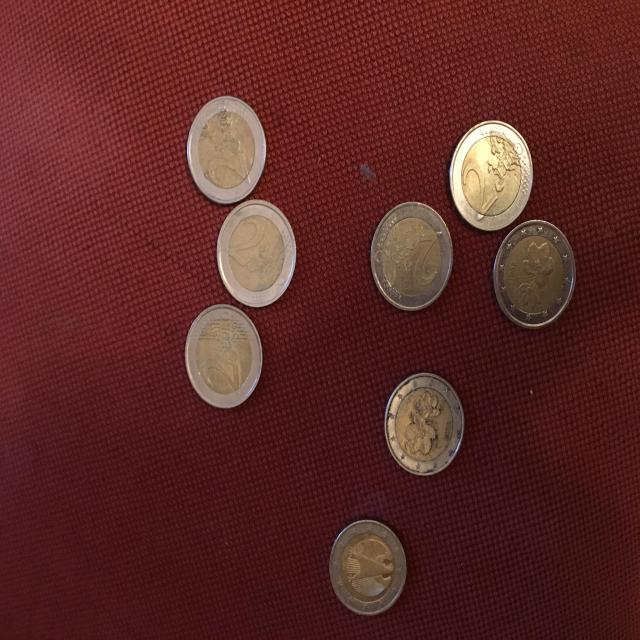2e: (449, 120, 534, 232), (370, 199, 454, 311), (493, 220, 577, 328), (382, 372, 466, 476), (218, 199, 298, 307), (186, 97, 266, 204), (182, 302, 262, 409), (328, 517, 408, 613)
